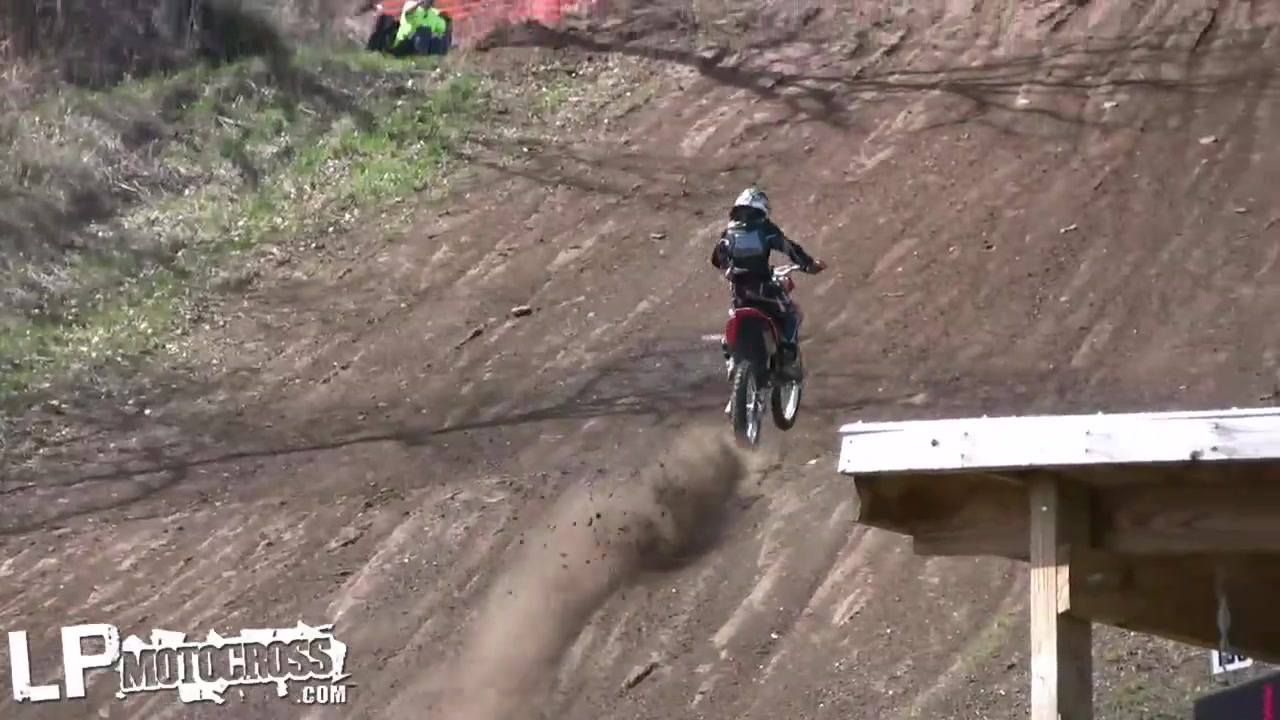motorbike: (721, 254, 824, 449)
